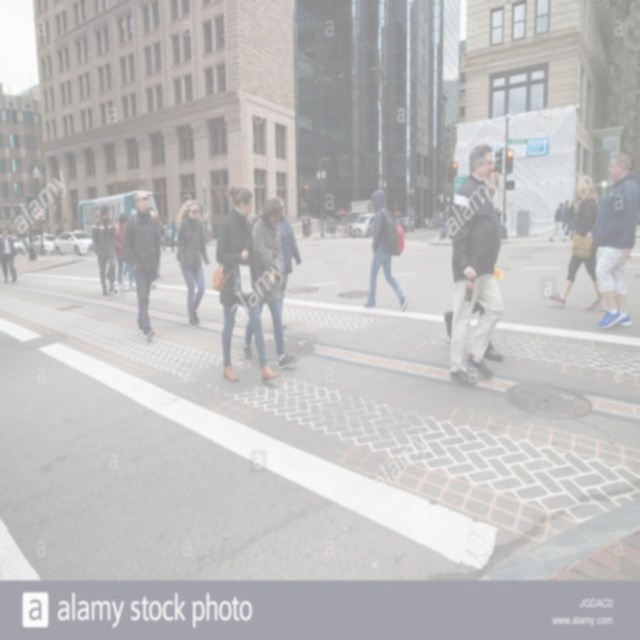pessoa: (450, 144, 504, 386), (214, 185, 280, 383), (444, 160, 506, 362), (238, 196, 300, 370), (584, 152, 640, 330), (548, 175, 608, 312), (118, 190, 162, 342), (360, 188, 410, 314), (172, 198, 212, 326), (276, 196, 300, 330), (90, 202, 119, 298), (114, 213, 137, 292), (150, 210, 166, 290), (0, 226, 19, 284), (549, 202, 568, 242), (562, 199, 572, 237), (568, 200, 577, 242), (413, 214, 435, 231), (248, 210, 264, 233), (442, 204, 452, 240), (493, 205, 504, 232), (169, 216, 177, 252), (437, 210, 444, 240), (300, 218, 308, 240), (341, 213, 347, 236), (306, 213, 312, 236), (206, 221, 212, 243), (330, 216, 336, 236), (326, 216, 332, 236), (390, 214, 396, 222)
